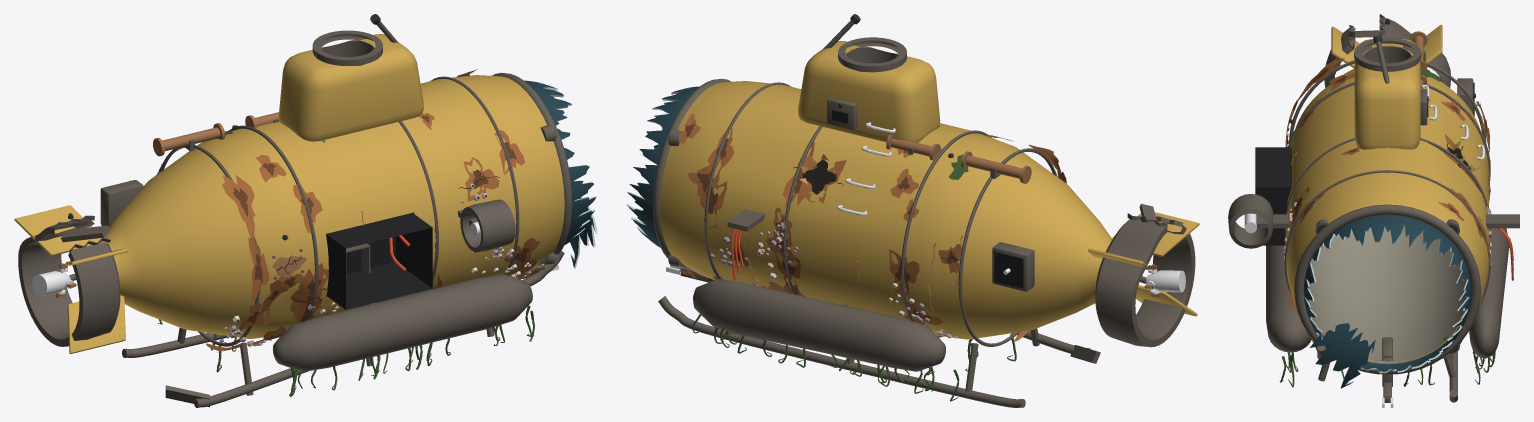
Rendered from SM_Submarine_Wrecked.fbx.
The picture shows the model from 3 angles, left to right: view 1: azimuth 30°, elevation 25°; view 2: azimuth 150°, elevation 25°; view 3: azimuth 270°, elevation 25°; orthographic projection. The views are drawn at different scales.
Visible parts, largest first — view 1: SM_Submarine_Wrecked; view 2: SM_Submarine_Wrecked; view 3: SM_Submarine_Wrecked.
Boxes of the visible parts, x1,y1,x2,y2 form: SM_Submarine_Wrecked: [14, 14, 597, 407]; SM_Submarine_Wrecked: [626, 14, 1199, 407]; SM_Submarine_Wrecked: [1228, 14, 1519, 407].
Size of the model in its own units: 6.62 by 3.87 by 3.31.
